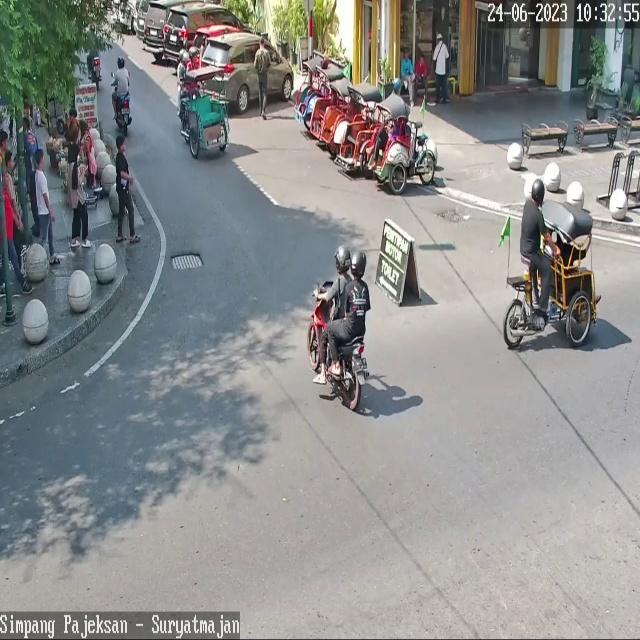bus: (308, 281, 370, 410), (116, 97, 132, 135), (91, 56, 102, 90)
motorcycle: (199, 34, 295, 112), (163, 4, 254, 63), (144, 0, 172, 52), (194, 25, 243, 47)
